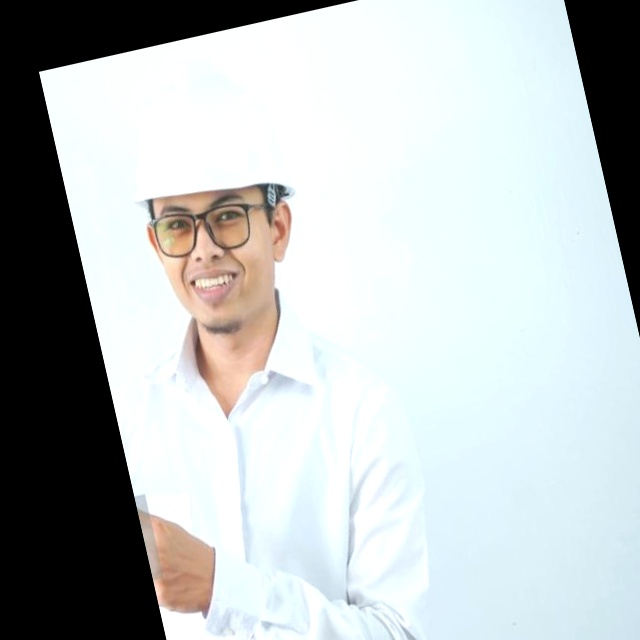Con_Casco: (102, 49, 327, 347)
Sin_Chaleco: (104, 302, 450, 640)
